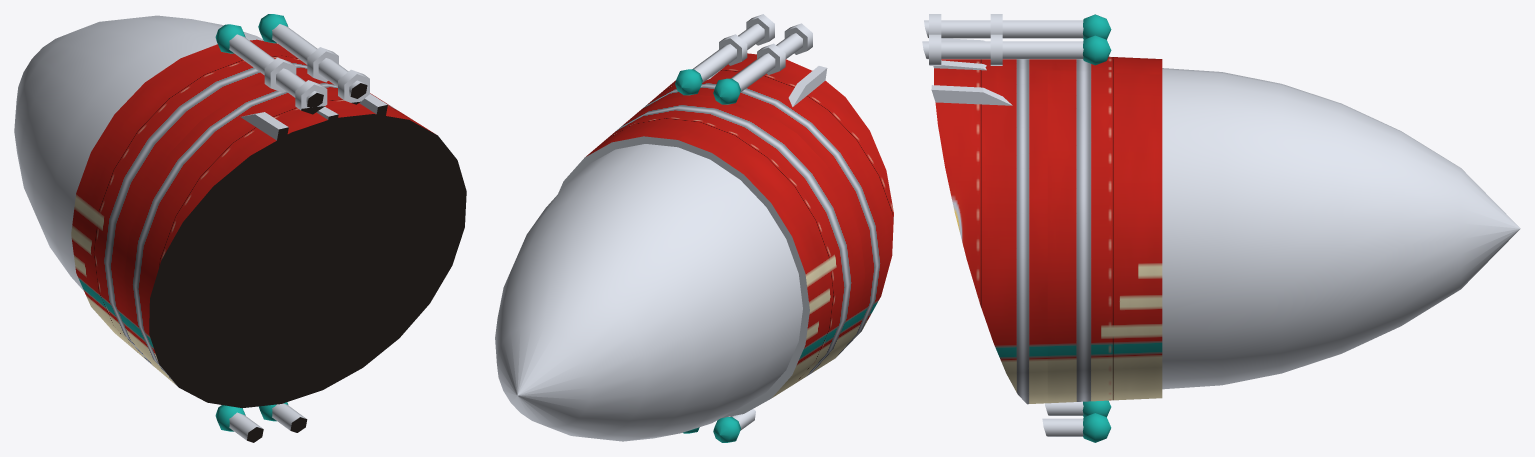
The model's file is victory_debris1.obj.
The picture shows the model from 3 angles, left to right: view 1: azimuth 30°, elevation 25°; view 2: azimuth 150°, elevation 25°; view 3: azimuth 270°, elevation 25°; orthographic projection. The views are drawn at different scales.
Parts seen in each view (by area): view 1: hull, turret_gun, turret_gun_ring, turret_gun_tip, speedline; view 2: hull, turret_gun, turret_gun_tip, turret_gun_ring, speedline; view 3: hull, turret_gun, turret_gun_tip, speedline, turret_gun_ring.
Boxes of the visible parts, bbox=[...] form: hull: bbox=[14, 15, 466, 408]; turret_gun: bbox=[229, 24, 367, 442]; turret_gun_ring: bbox=[264, 47, 369, 114]; turret_gun_tip: bbox=[215, 14, 288, 431]; speedline: bbox=[241, 93, 387, 140]; hull: bbox=[495, 53, 893, 441]; turret_gun: bbox=[692, 24, 802, 430]; turret_gun_tip: bbox=[675, 69, 740, 442]; turret_gun_ring: bbox=[719, 14, 812, 75]; speedline: bbox=[707, 66, 827, 106]; hull: bbox=[934, 56, 1520, 404]; turret_gun: bbox=[922, 20, 1083, 436]; turret_gun_tip: bbox=[1082, 14, 1111, 442]; speedline: bbox=[931, 38, 1012, 105]; turret_gun_ring: bbox=[929, 14, 1002, 65].
Size of the model in its own units: 15.9 by 20.09 by 26.73.
4 materials, 1 textured.
